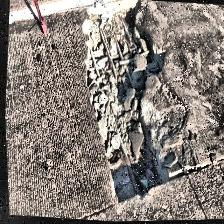pothole: (71, 0, 185, 212)
